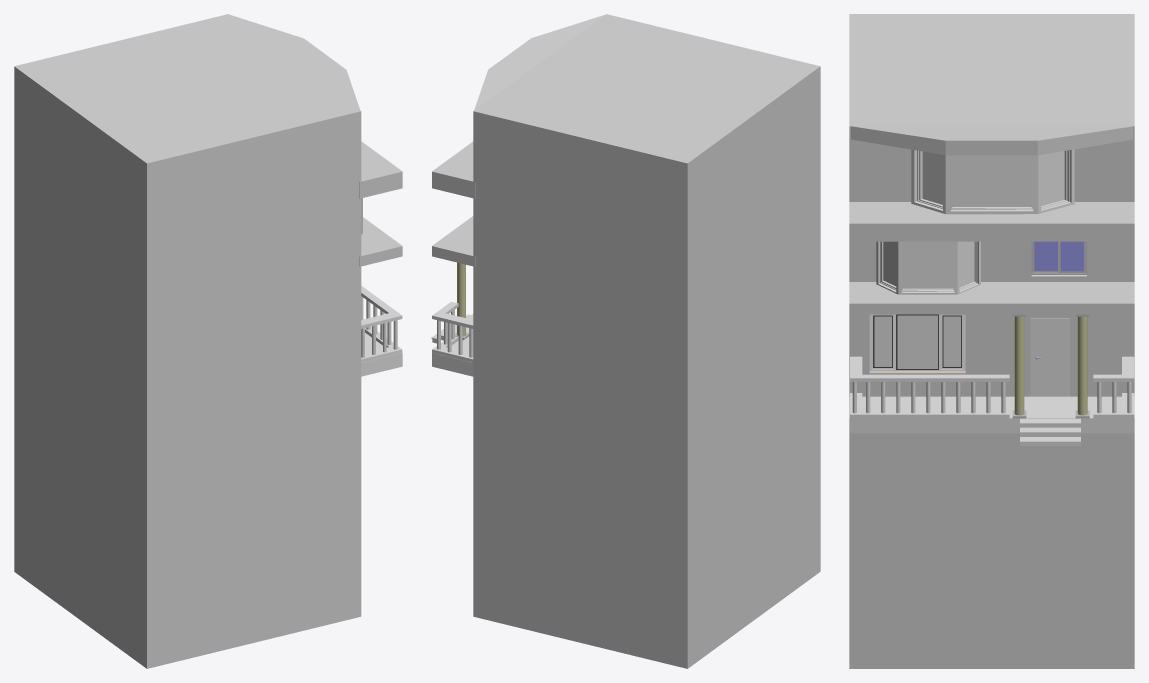
The model's file is Prédio1Versão2.0.fbx.
3 views of the same model, side by side, from view 1: azimuth 30°, elevation 25°; view 2: azimuth 150°, elevation 25°; view 3: azimuth 270°, elevation 25° (orthographic). The views are drawn at different scales.
Parts seen in each view (by area): view 1: Cube, Plane.004, Plane.003, Plane.002, Plane.009, Plane.008; view 2: Cube, Plane.004, Plane.003, Plane.002, Plane.009; view 3: Cube, Plane.003, Plane.001, Plane.002, Plane.009, Plane.004, Window, Plane, Door, Stairs, Plane.008, Plane.005 (+7 smaller).
Part boxes in pixels (x1,y1,x2,y2): Cube: (14, 14, 361, 668); Plane.004: (230, 15, 359, 109); Plane.003: (359, 141, 402, 198); Plane.002: (359, 217, 402, 266); Plane.009: (361, 333, 402, 376); Plane.008: (361, 286, 402, 328); Cube: (473, 14, 820, 668); Plane.004: (474, 15, 604, 110); Plane.003: (432, 141, 475, 198); Plane.002: (432, 216, 475, 266); Plane.009: (432, 327, 473, 376); Cube: (849, 14, 1134, 668); Plane.003: (849, 202, 1134, 241); Plane.001: (911, 149, 1074, 214); Plane.002: (849, 282, 1134, 314); Plane.009: (849, 396, 1134, 433); Plane.004: (851, 126, 1132, 155); Window: (869, 314, 965, 373); Plane: (876, 241, 980, 294); Door: (1034, 321, 1066, 396); Stairs: (1020, 418, 1080, 445); Plane.008: (850, 356, 1009, 381); Plane.005: (850, 393, 1009, 418).
Size of the model in its own units: 1299 by 2237 by 1063.
